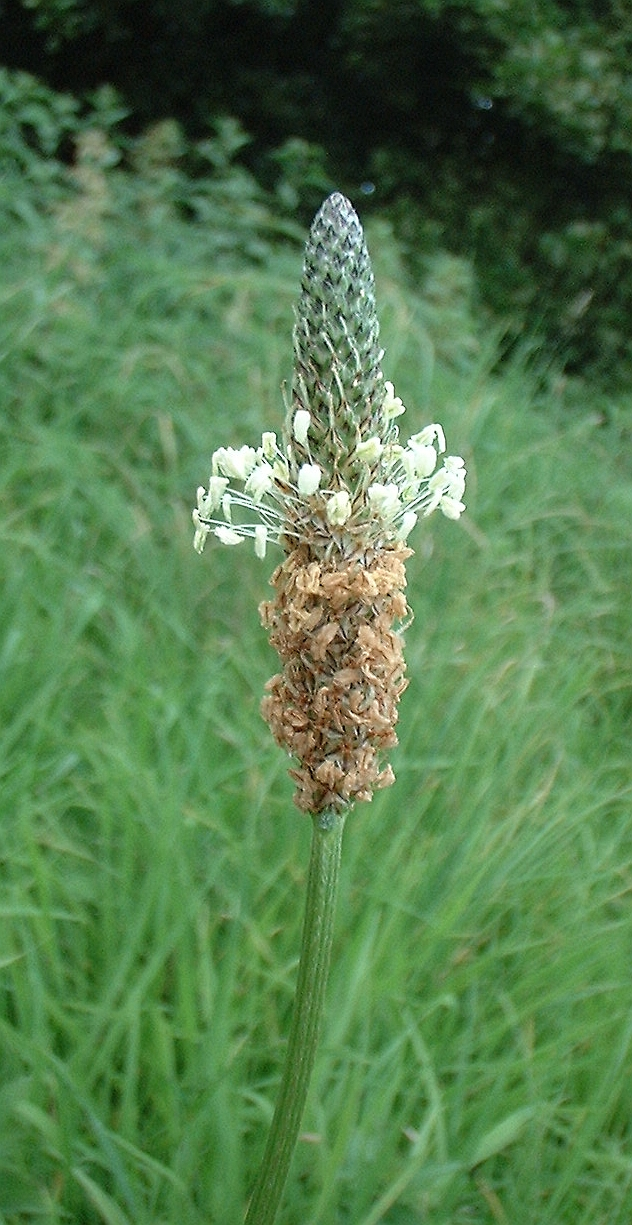buckhorn plantain: (199, 181, 503, 1023)
